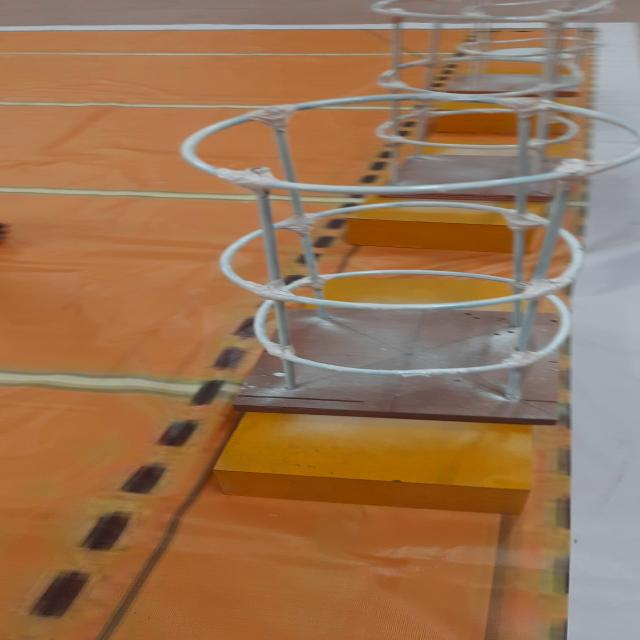silo: (147, 92, 640, 432), (315, 0, 634, 208)
